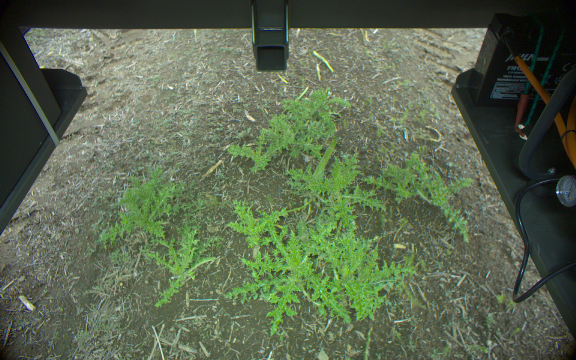aspa: (308, 125, 347, 189)
